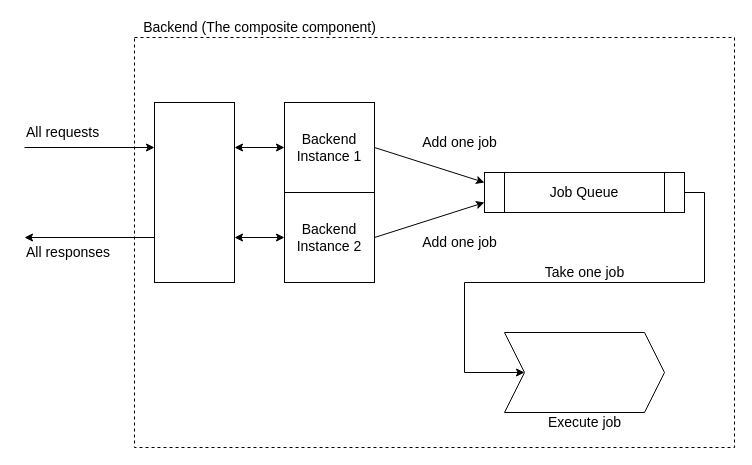
Image size: 752x465. Some labels were removed from this diagram. Each missing label, with the centre of its shape:
Async Worker: point 584,372
Load Balancer: point 194,192
